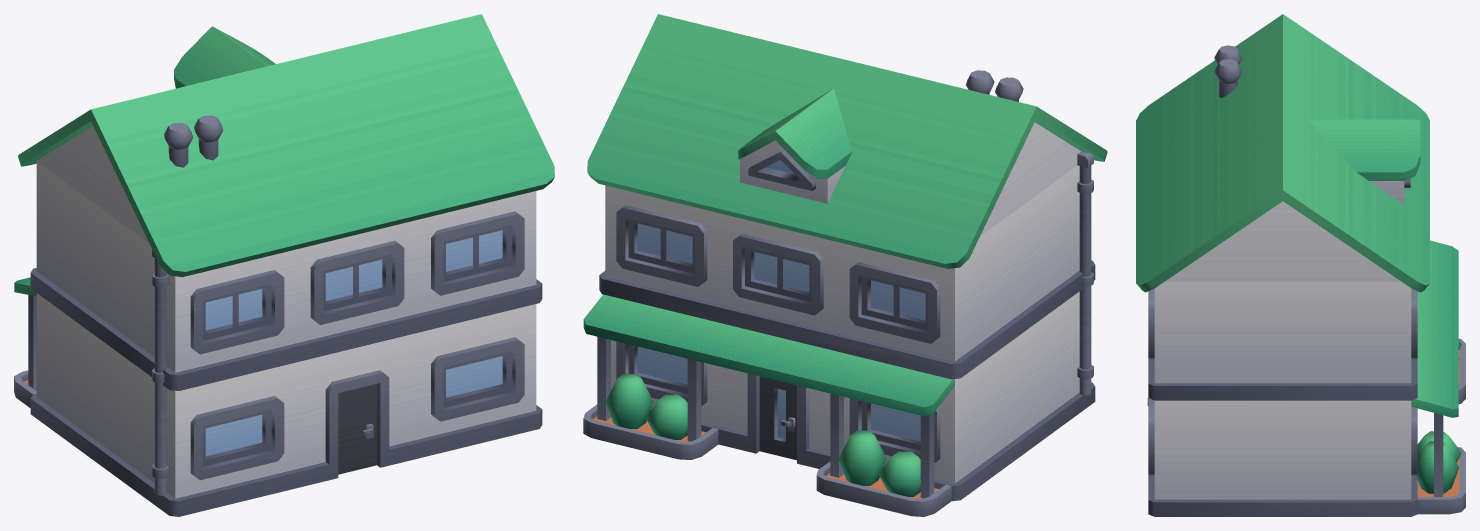
File: building-type-e.draco.glb
3 renders of one model, left to right at view 1: azimuth 30°, elevation 25°; view 2: azimuth 150°, elevation 25°; view 3: azimuth 270°, elevation 25°, orthographic. The views are drawn at different scales.
Visible parts, largest first — view 1: building-type-e; view 2: building-type-e; view 3: building-type-e.
Boxes of the visible parts, x1,y1,x2,y2 form: building-type-e: (14,14,554,516); building-type-e: (583,14,1107,516); building-type-e: (1136,14,1465,516).
Bounding box in the file's own units: 1.3 × 1.14 × 1.03.
Materials: 1 (1 with a texture image).
